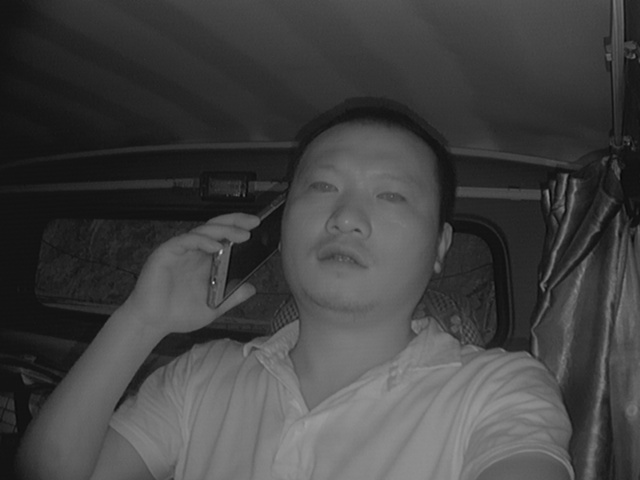hand: (131, 209, 258, 335)
